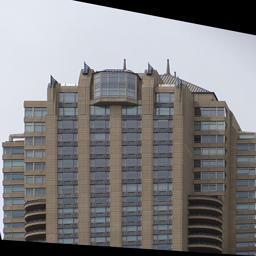building: (5, 59, 233, 252)
